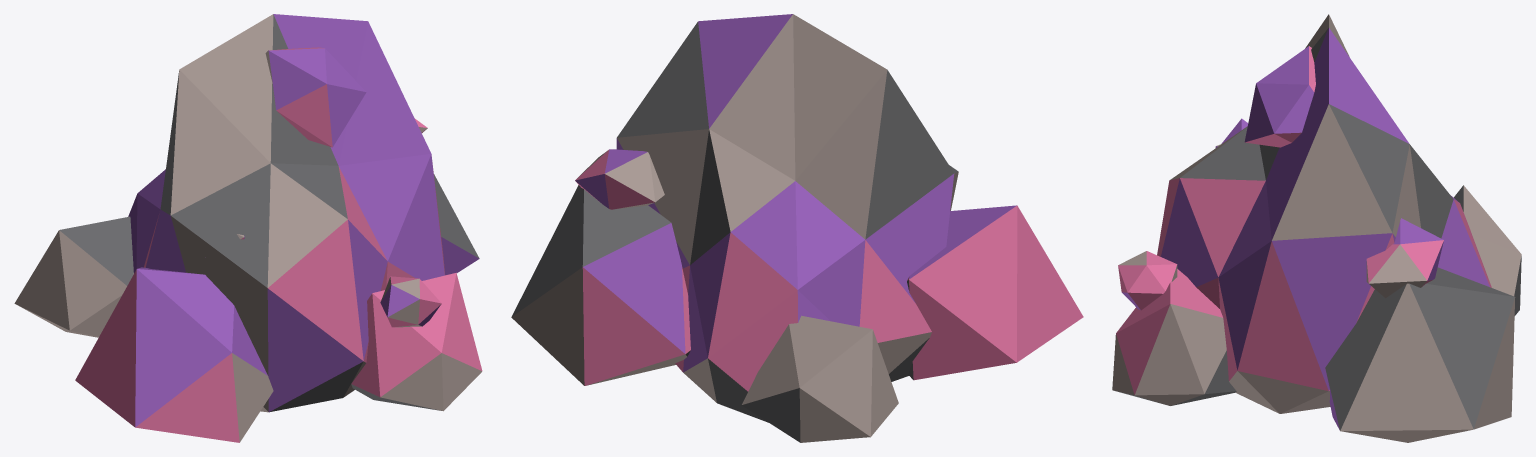
Rendered from rare_earths_b.glb.
3 views of the same model, side by side, from view 1: azimuth 30°, elevation 25°; view 2: azimuth 150°, elevation 25°; view 3: azimuth 270°, elevation 25° (orthographic).
Visible parts, largest first — view 1: rare_earths_b; view 2: rare_earths_b; view 3: rare_earths_b.
Part boxes in pixels (left/top/right/bottom): rare_earths_b: left=14, top=14, right=482, bottom=442; rare_earths_b: left=511, top=14, right=1083, bottom=442; rare_earths_b: left=1112, top=14, right=1521, bottom=442.
Bounding box in the file's own units: 1.24 × 0.9269 × 1.03.
